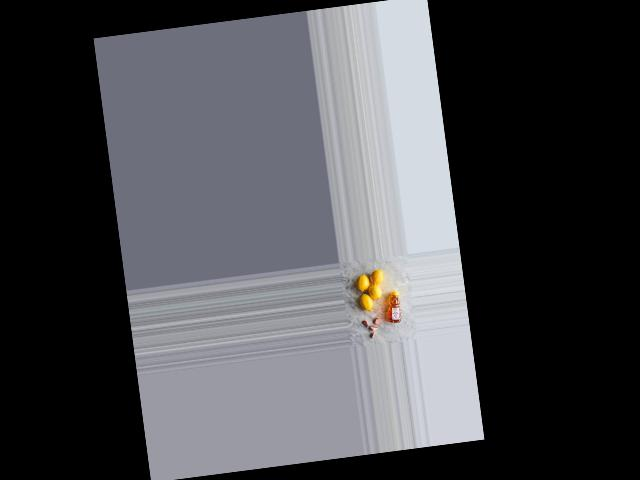lemon: (356, 291, 376, 313)
